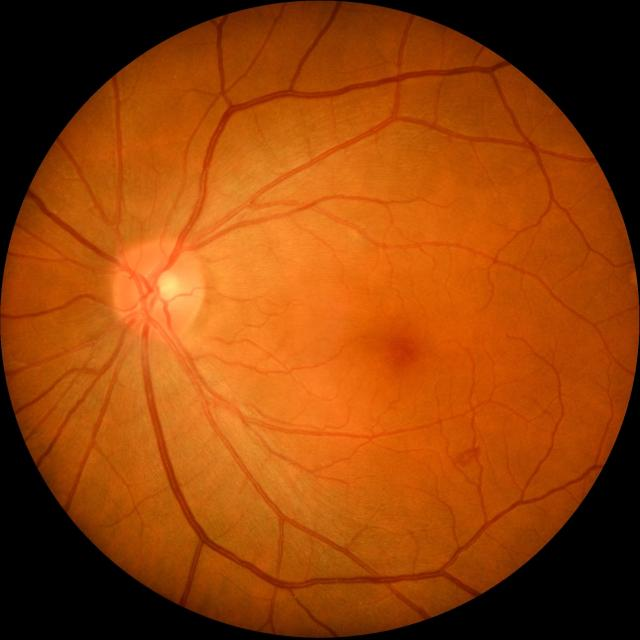OC: (149, 270, 181, 304)
OD: (110, 238, 204, 336)
